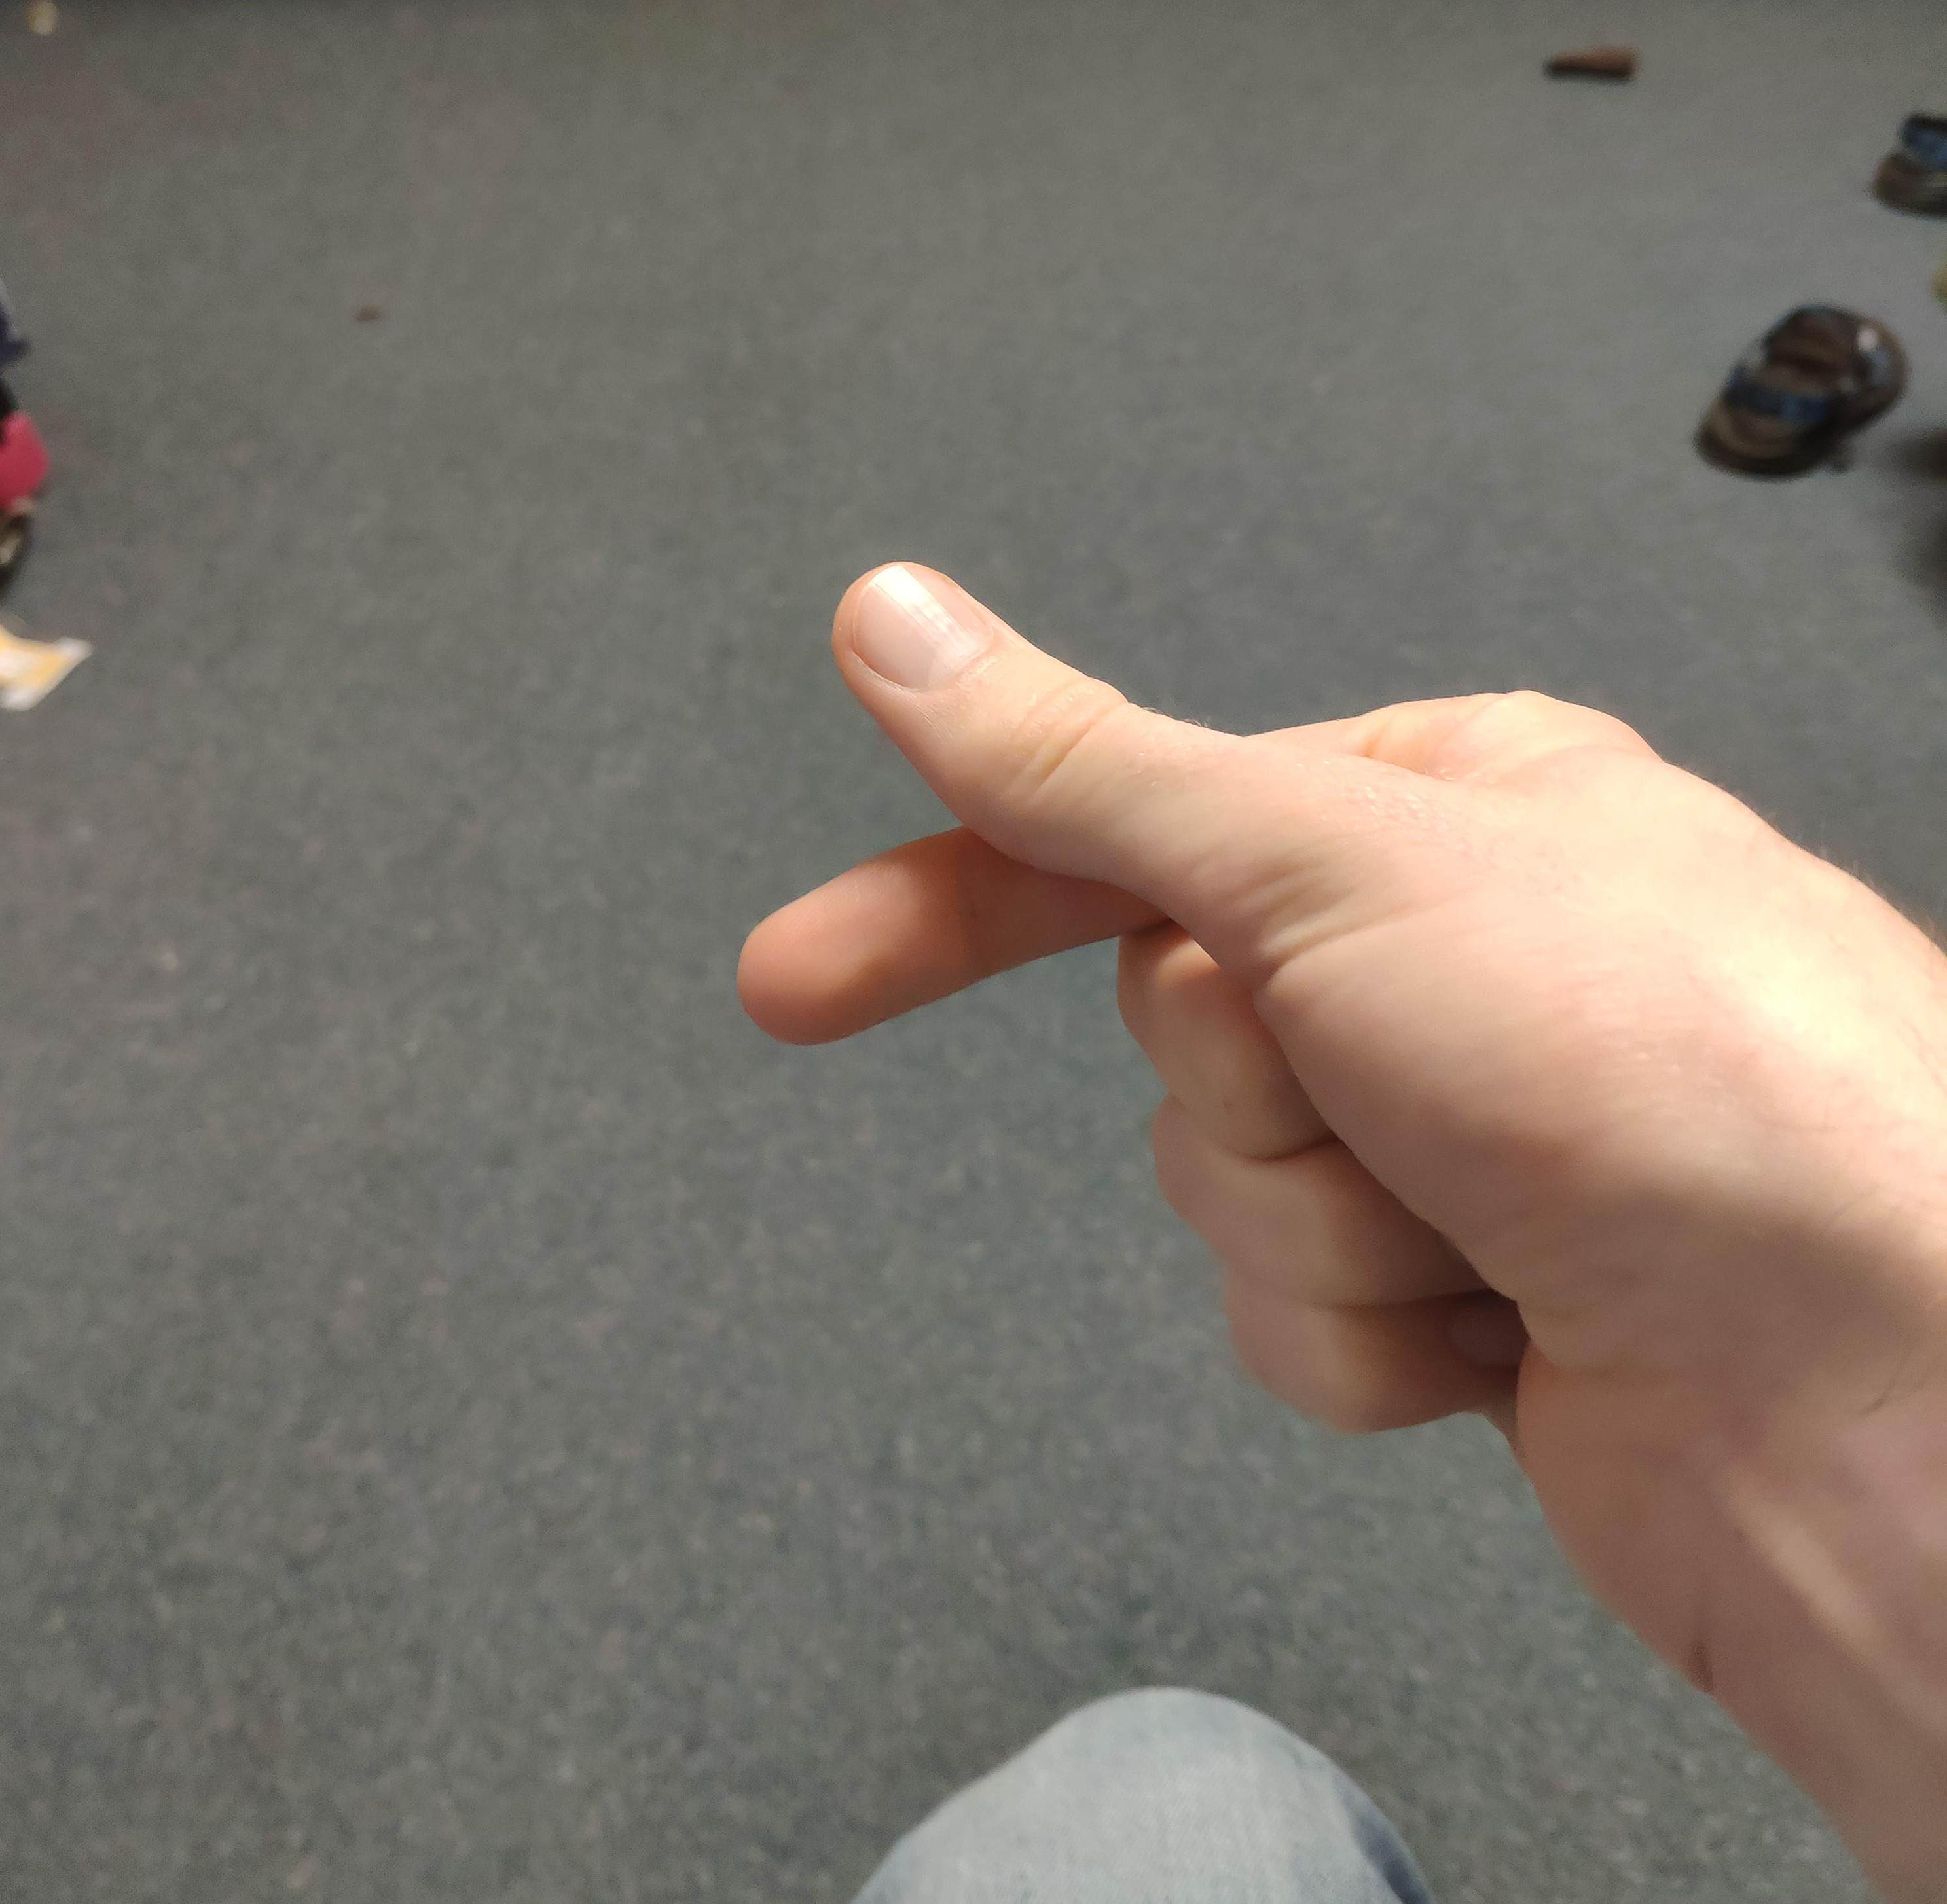heart gesture: (726, 553, 1216, 1050)
